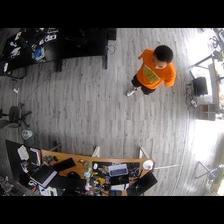normal: (123, 44, 176, 96)
